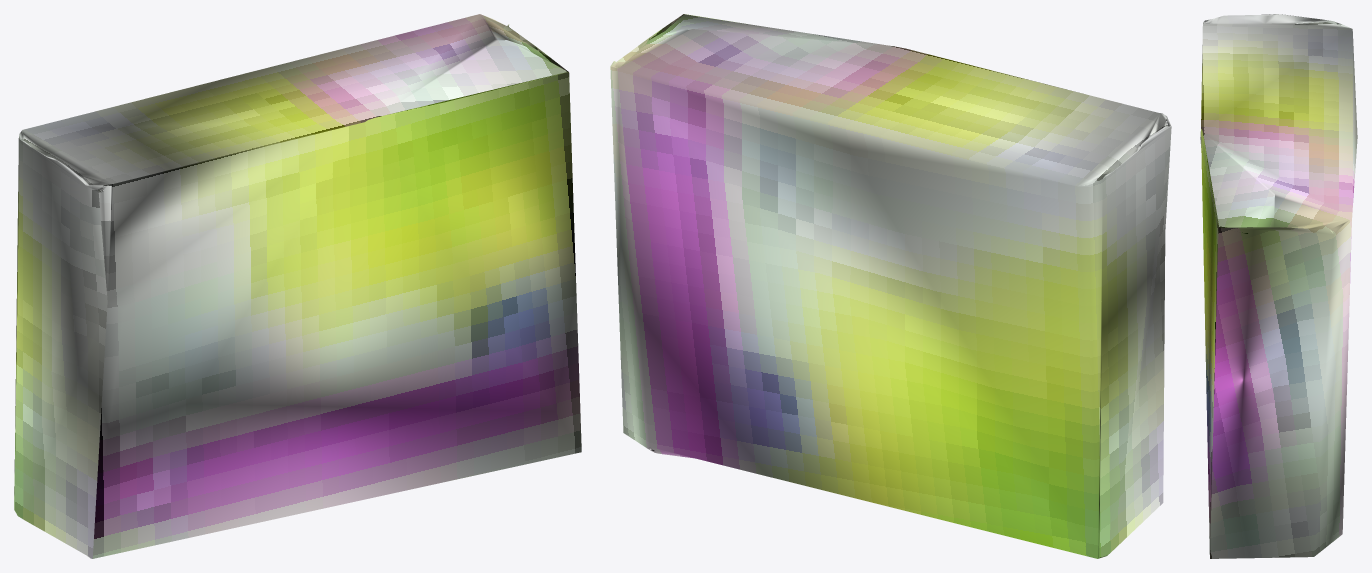
The model's file is Tena_Pads_Heavy_Long_42_pads-low.glb.
3 views of the same model, side by side, from view 1: azimuth 30°, elevation 25°; view 2: azimuth 150°, elevation 25°; view 3: azimuth 270°, elevation 25° (orthographic). The views are drawn at different scales.
Parts seen in each view (by area): view 1: Tena_Pads_Heavy_Long_42_pads; view 2: Tena_Pads_Heavy_Long_42_pads; view 3: Tena_Pads_Heavy_Long_42_pads.
Part boxes in pixels (box(x1,y1,x2,y2)): Tena_Pads_Heavy_Long_42_pads: box(14, 14, 581, 558); Tena_Pads_Heavy_Long_42_pads: box(610, 14, 1171, 558); Tena_Pads_Heavy_Long_42_pads: box(1200, 14, 1357, 558).
Size of the model in its own units: 0.3644 by 0.2808 by 0.1155.
Materials: 1 (1 with a texture image).
